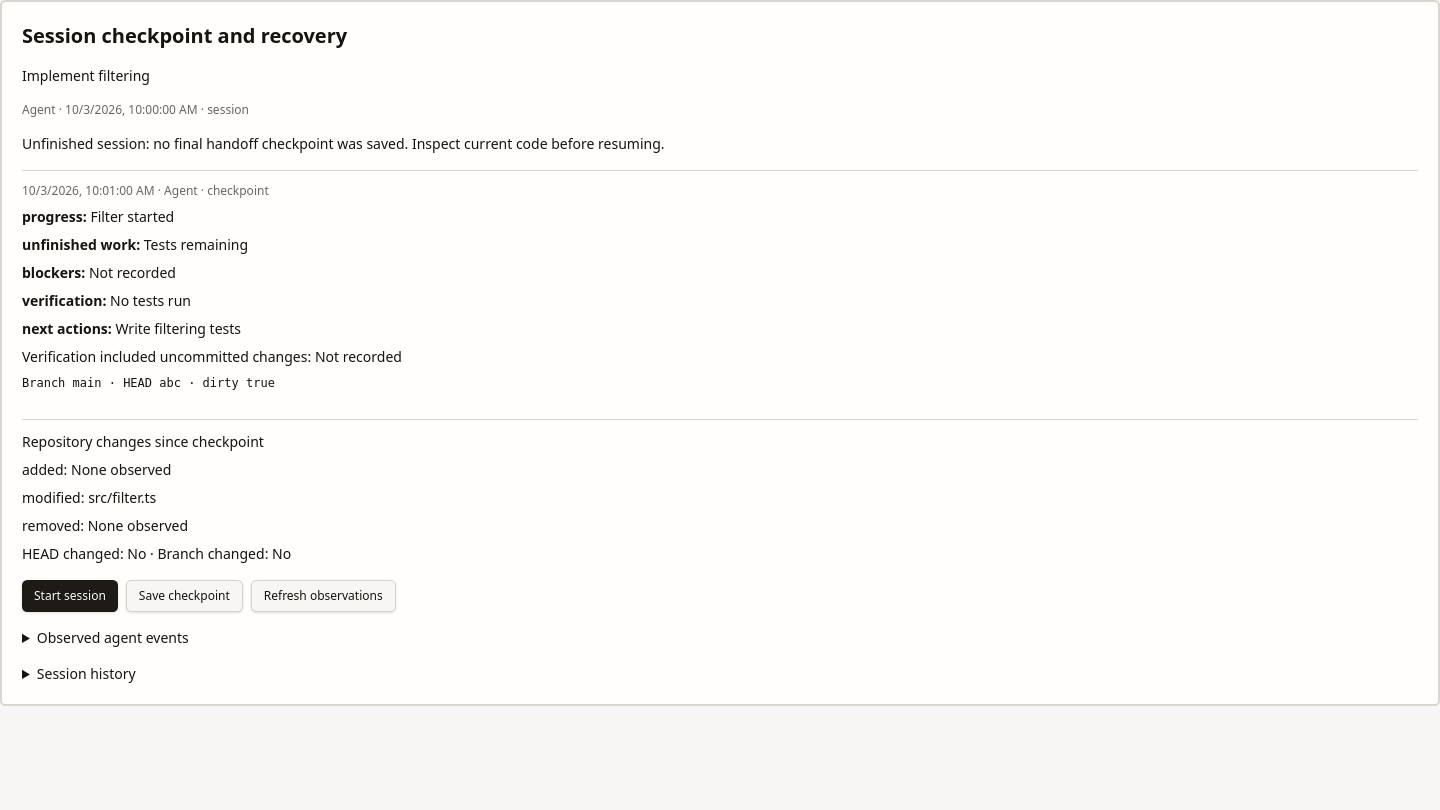
Scenario: Checkpoint recovery › shows unfinished progress, verification, next action, and changes after checkpoint
Expected: the text "Implement filtering" is shown, [22,66,150,85]
Expected: the text "Unfinished session: no final handoff" is shown, [22,134,664,153]
Click the heading "Session history". click: x=86, y=674
box: [37,664,136,683]
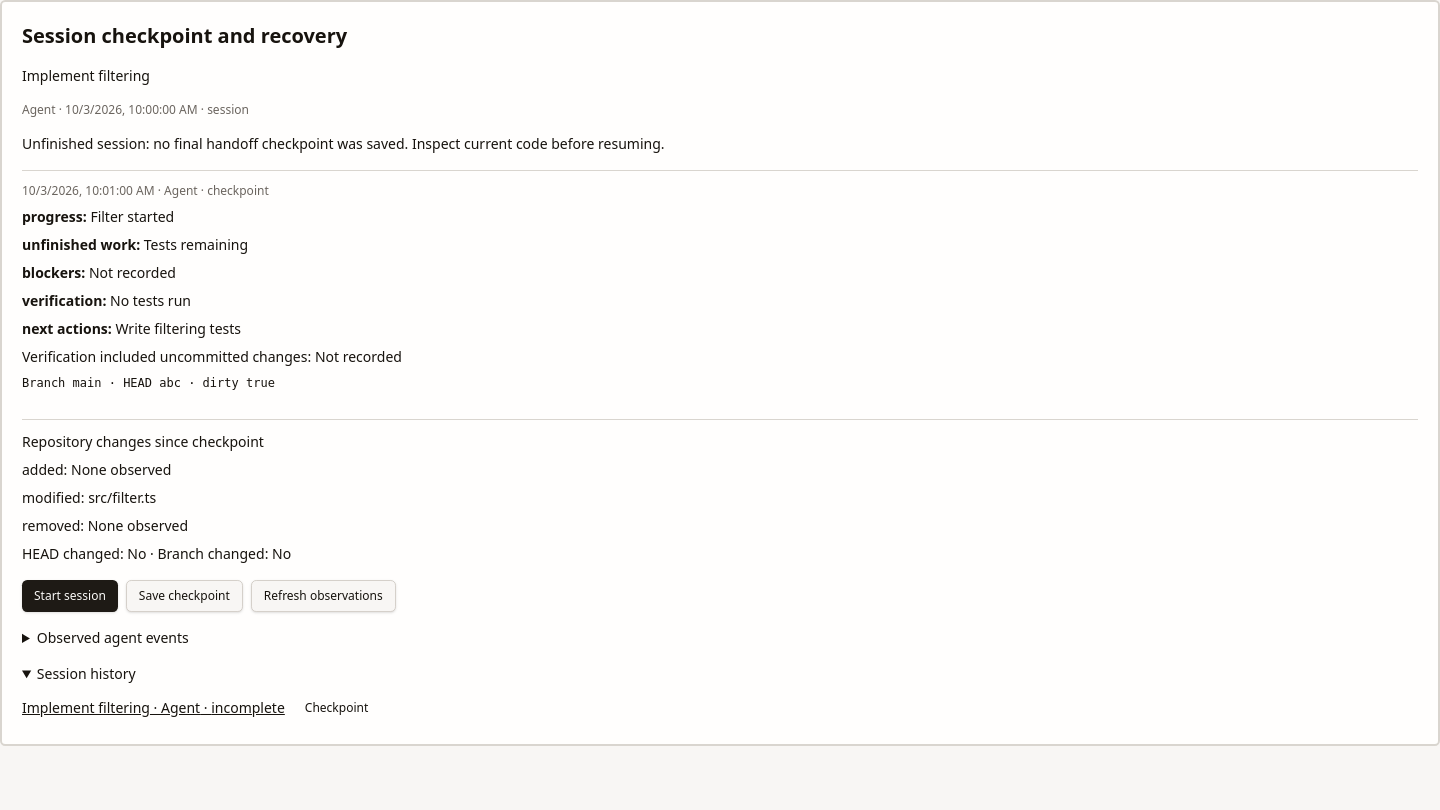
Click the button "Implement filtering · Agent · incomplete". click: x=153, y=708
box: [22,698,285,718]
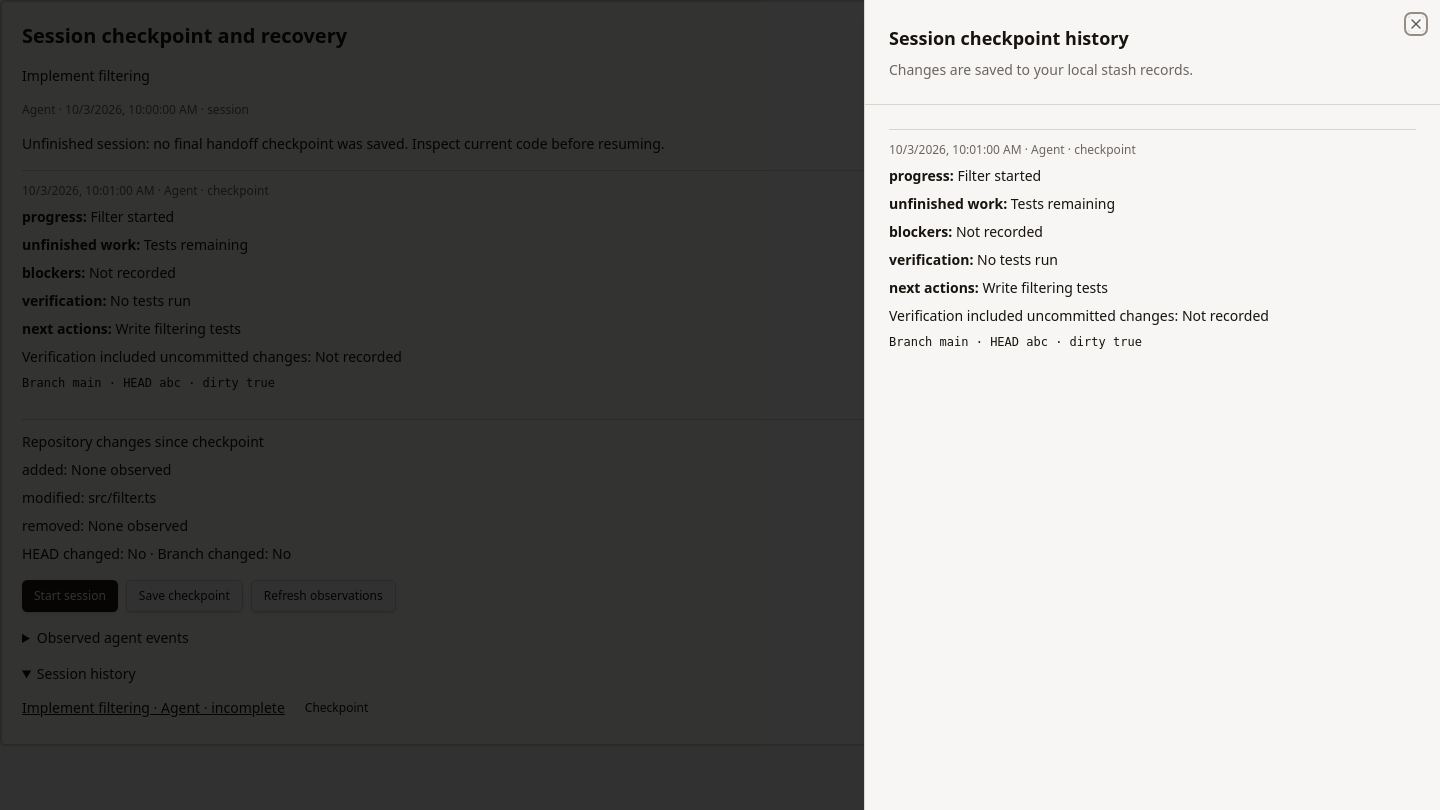
Expected: the dialog shows "Tests remaining", [1011,194,1115,213]
